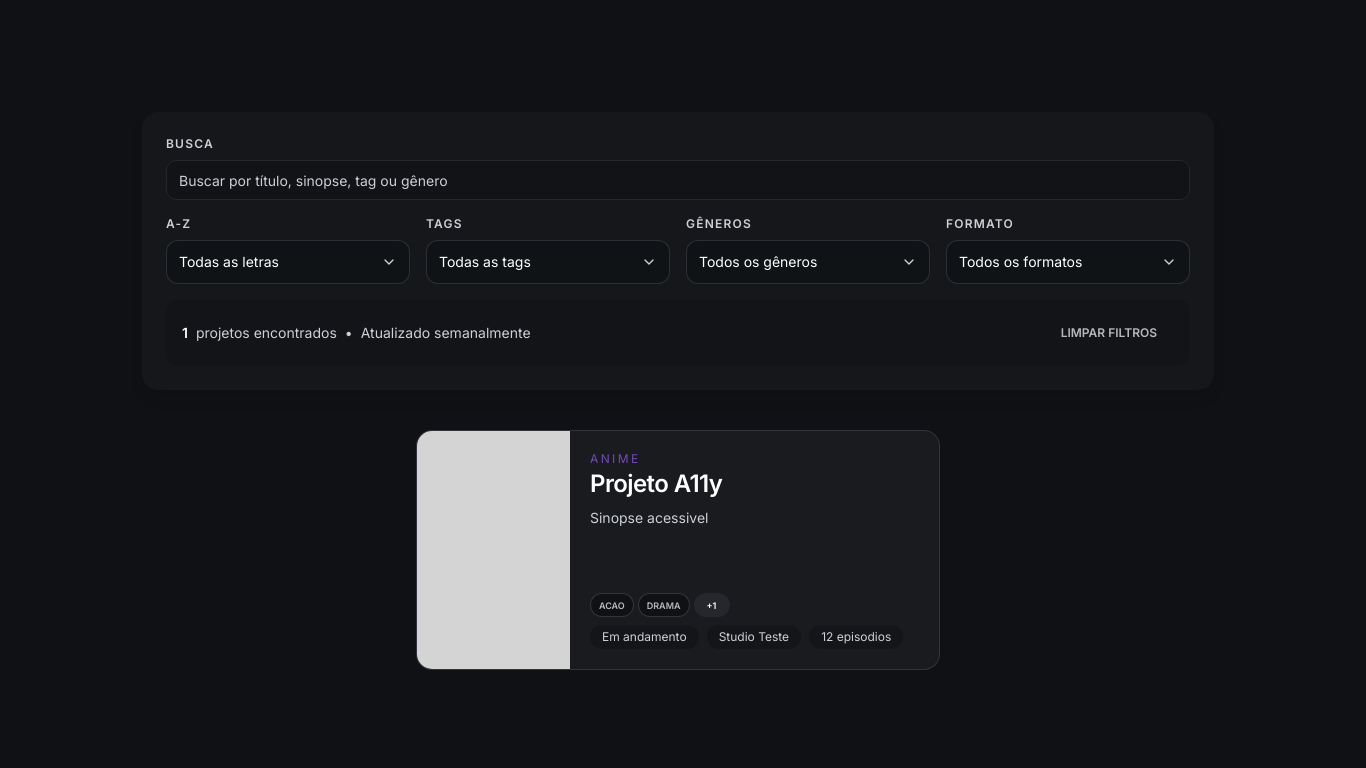
Projects accessibility › mantem apenas um filtro aberto por vez no desktop incluindo A-Z e formato
Click the dropdown named "Filtrar por letra". click: (288, 262)
box: [166,240,410,284]
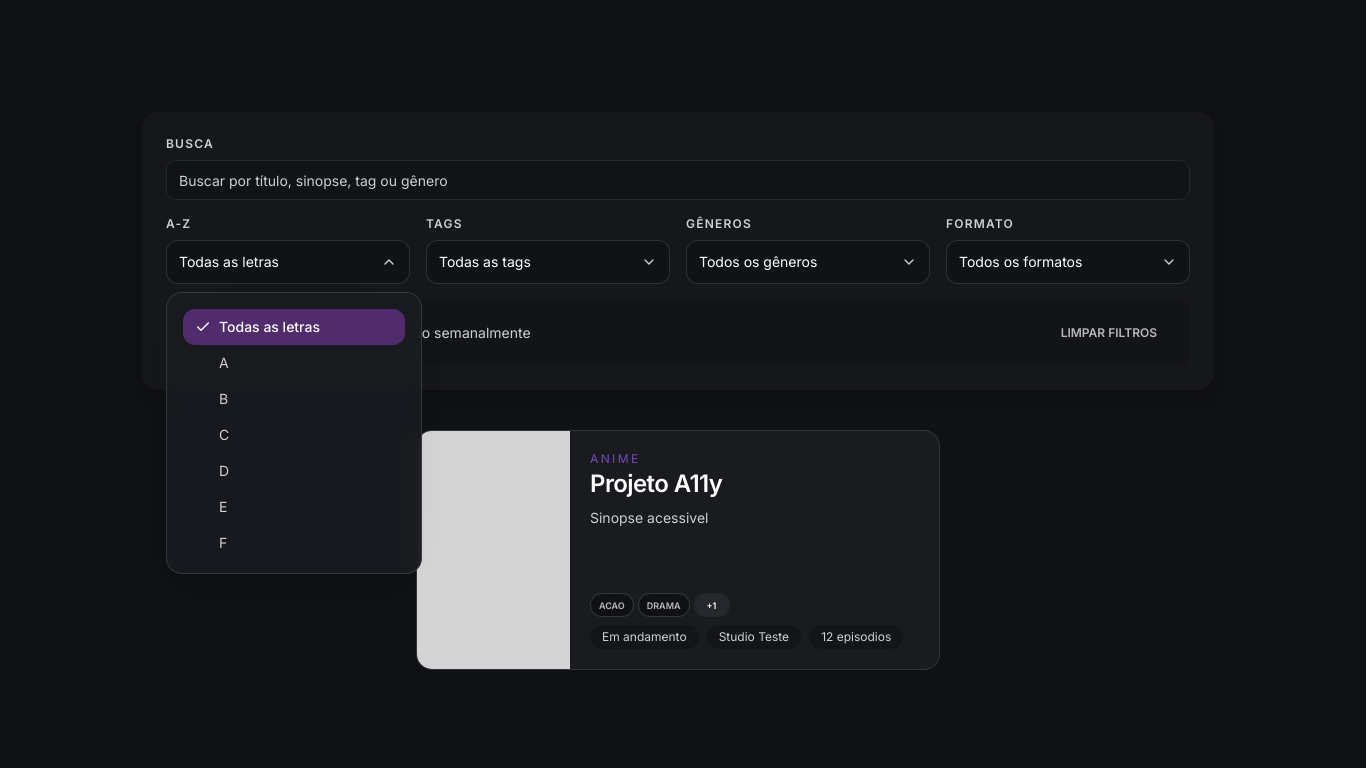
Click the dropdown named "Filtrar por formato". click: (1068, 262)
box: [946,240,1190,284]
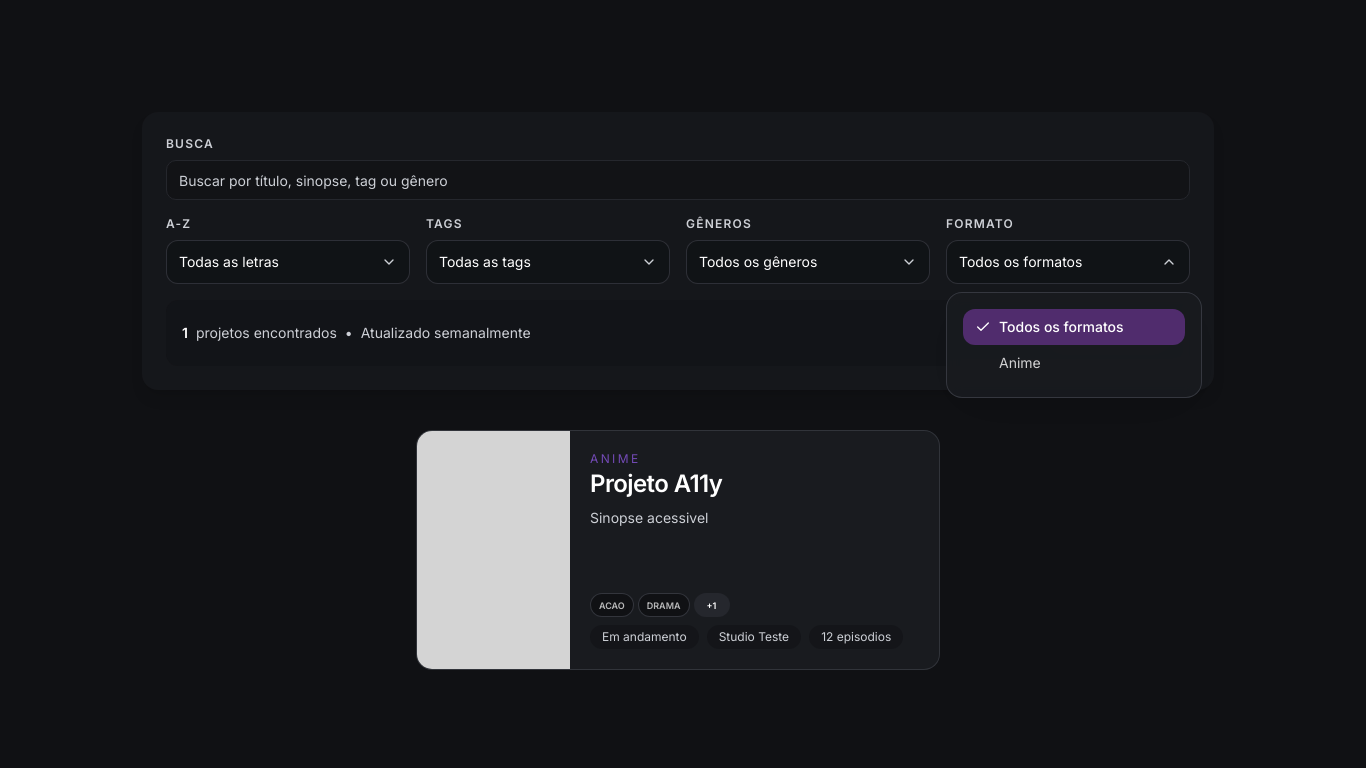
Expected: the option "Anime" is shown, [963,345,1185,381]
